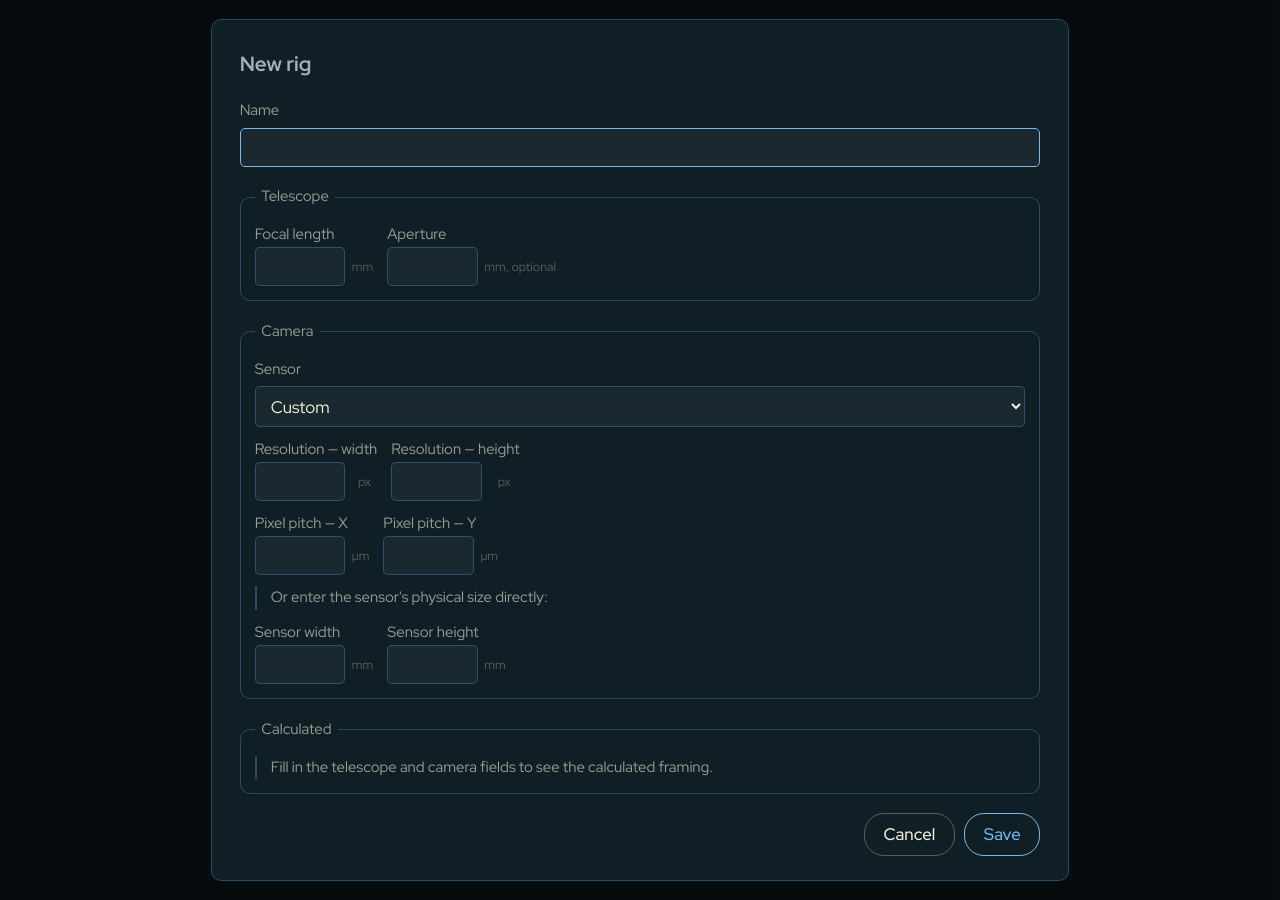
Test case: live-linked mm and pitch › editing the sensor width in mm rewrites the pitch
Type "1000" into the number field labelled "Resolution — width px" at (300,481), box [255, 462, 345, 501]
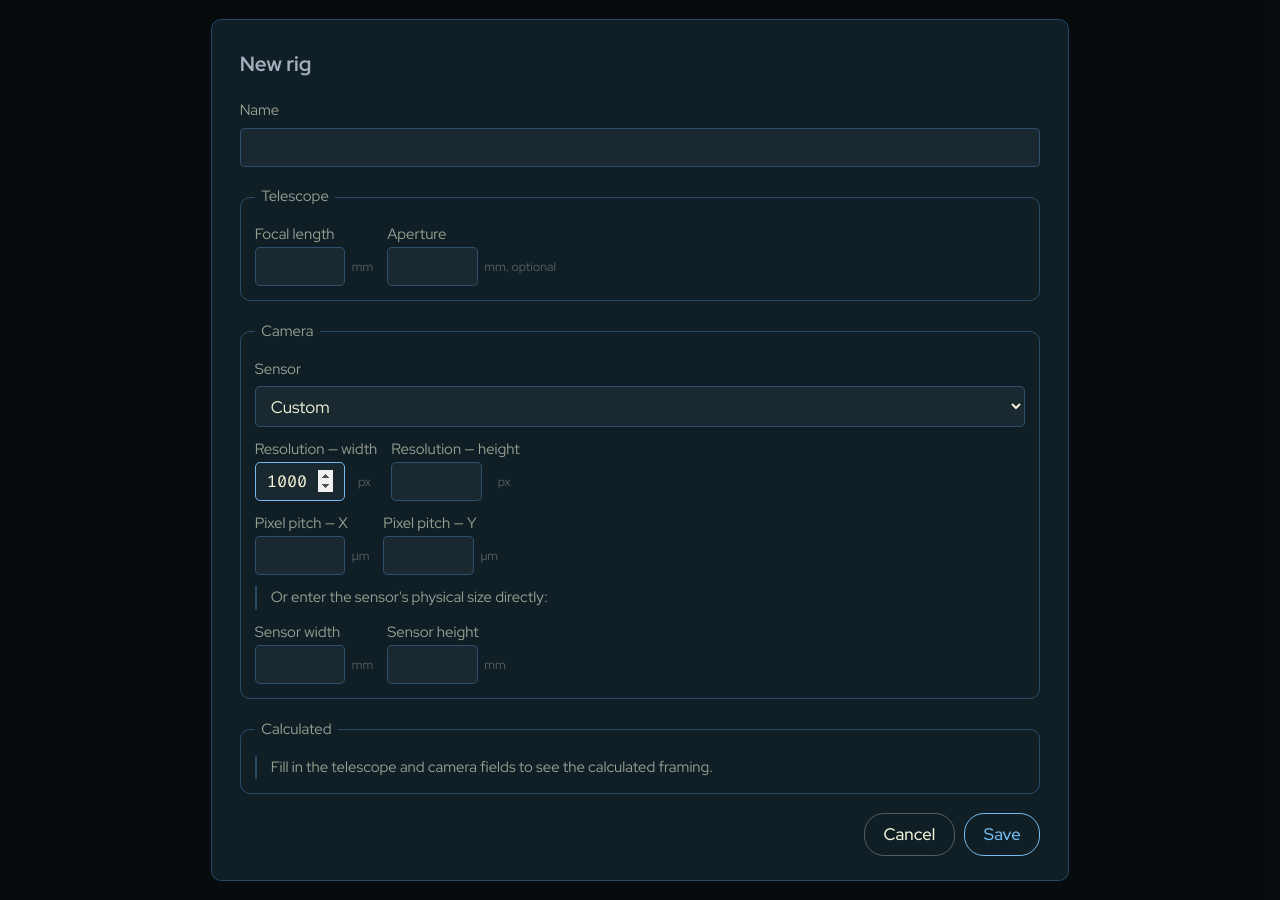
Type "10" into the number field labelled "Sensor width mm" at (300,665), box [255, 645, 345, 684]
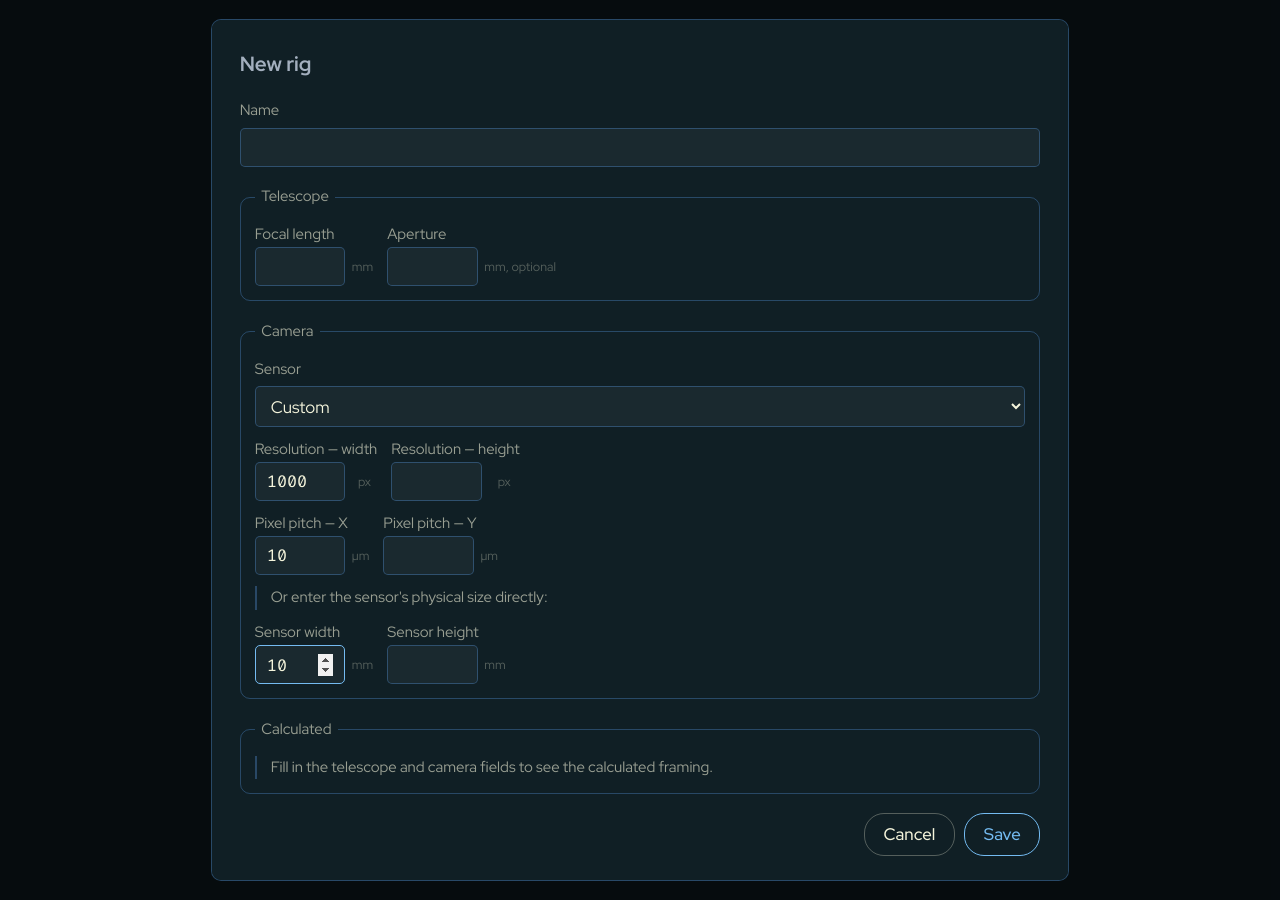
Expected: the number field labelled "Pixel pitch — X µm" holds "10", [255, 536, 345, 575]
